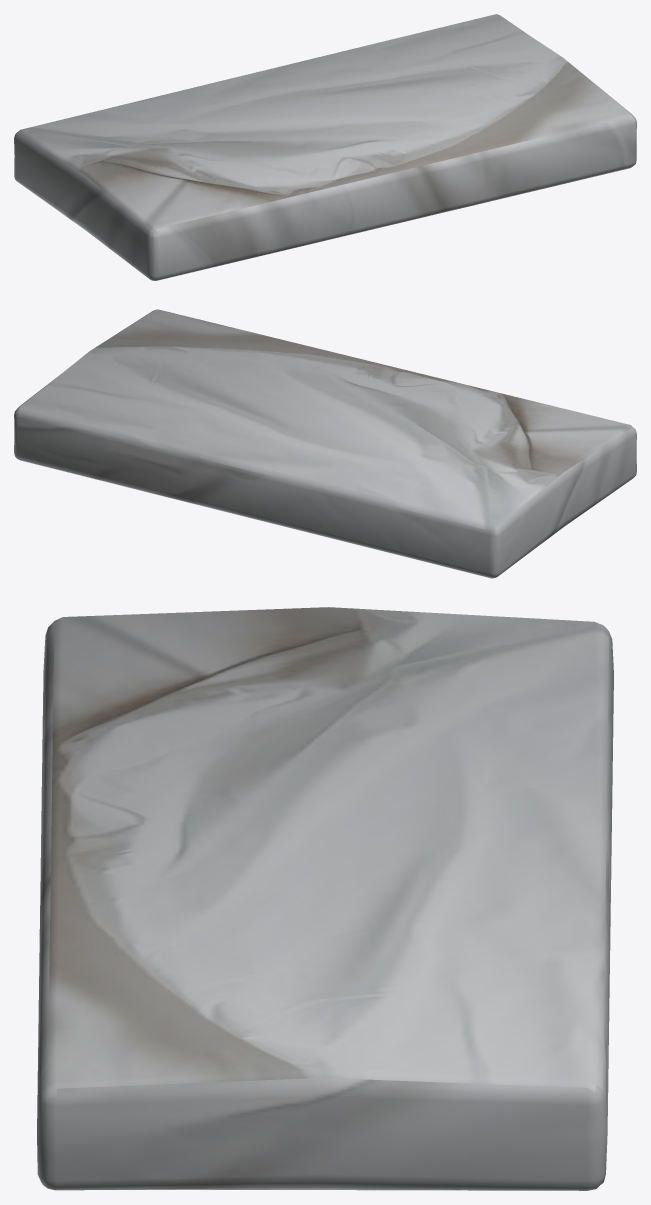
Rendered from TestMat_UV_Textured.fbx.
3 views of the same model, one above another, from view 1: azimuth 30°, elevation 25°; view 2: azimuth 150°, elevation 25°; view 3: azimuth 270°, elevation 25° (orthographic). The views are drawn at different scales.
Parts seen in each view (by area): view 1: SM_Mattress01; view 2: SM_Mattress01; view 3: SM_Mattress01.
Boxes of the visible parts, <box> form: SM_Mattress01: <box>14,14,636,280</box>; SM_Mattress01: <box>14,309,636,578</box>; SM_Mattress01: <box>37,607,613,1190</box>.
Bounding box in the file's own units: 627 × 74.94 × 321.
Materials: 1 (1 with a texture image).
